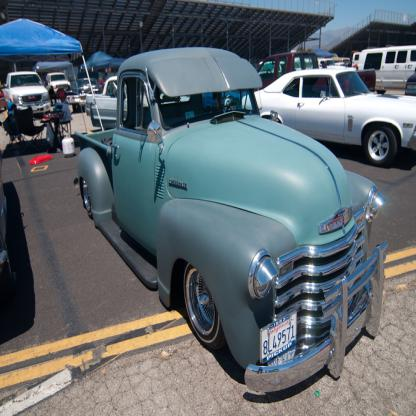Car: (75, 48, 388, 392), (241, 68, 415, 165), (3, 71, 51, 112)
Truck: (74, 47, 388, 395)
